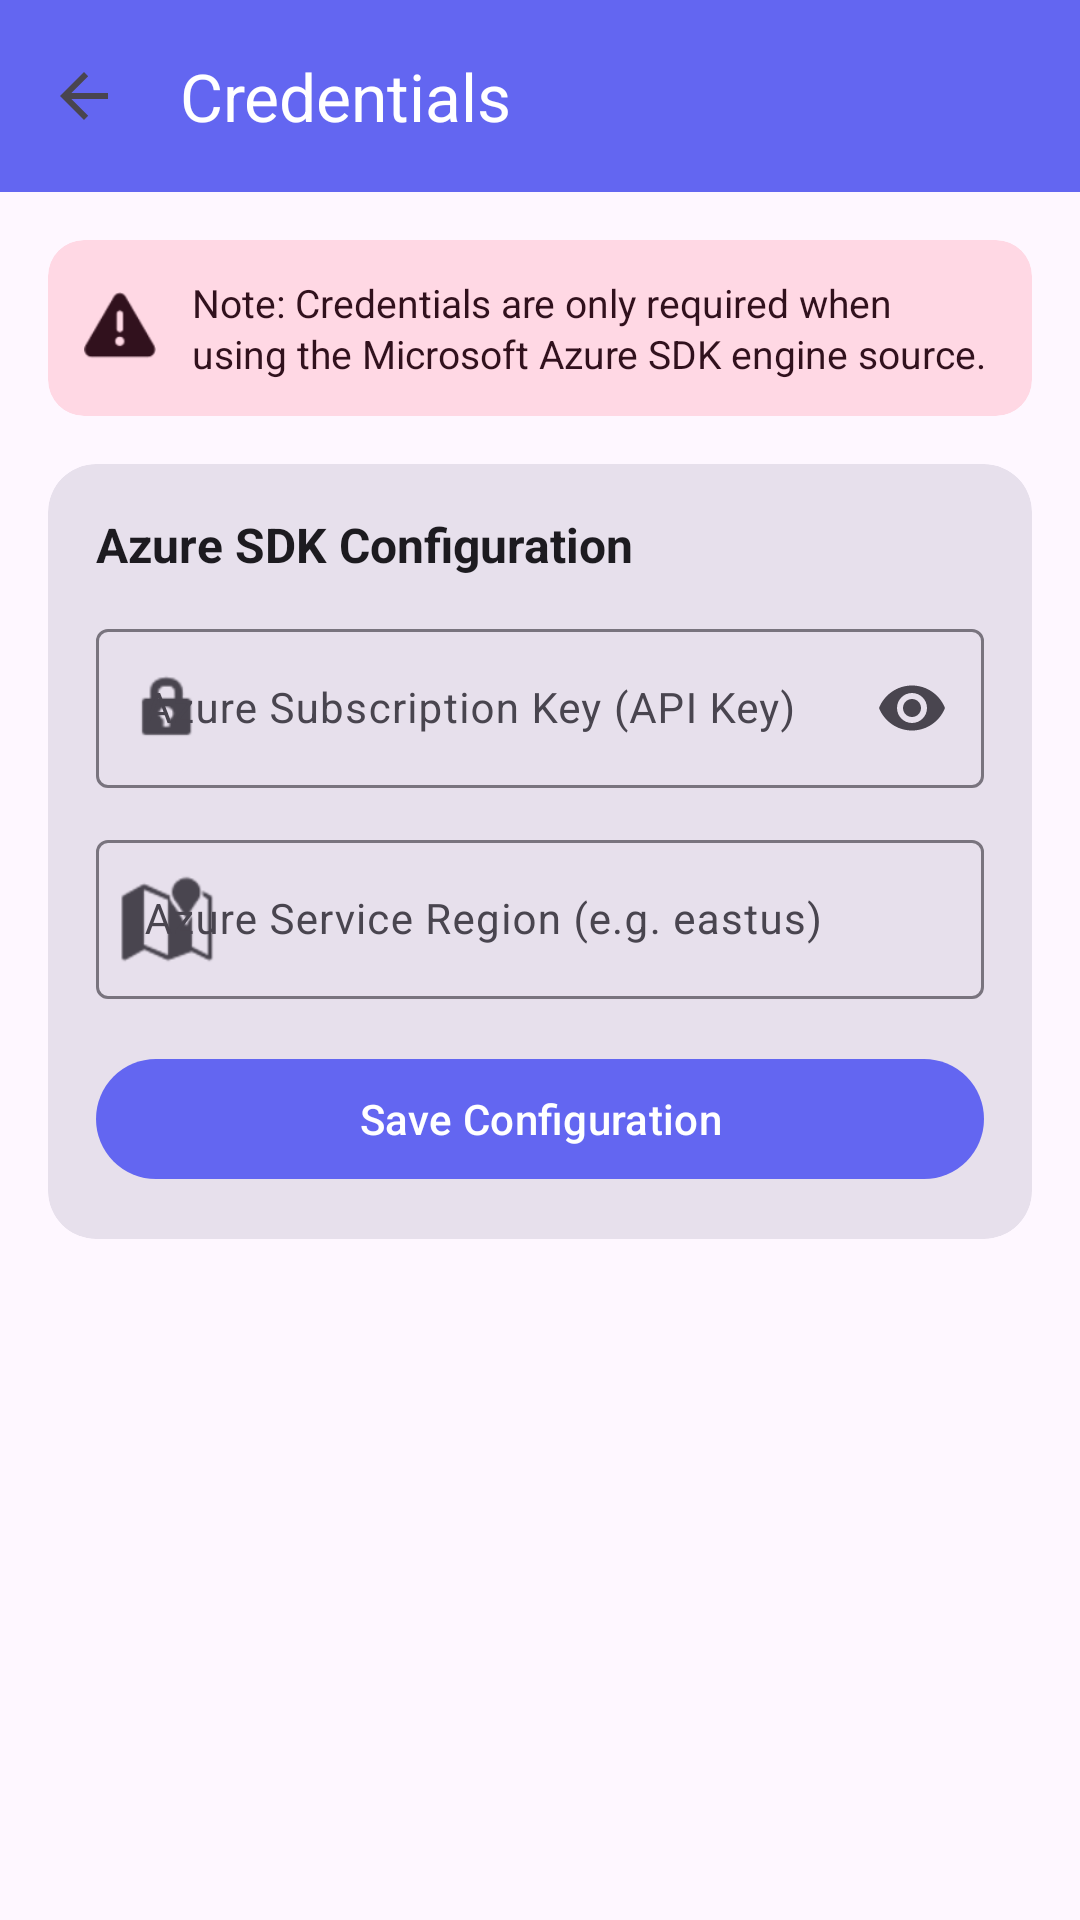

Point at icon controls on the screen. Image size 1080w x 1920h, points as point (x, y).
Warning Icon: point (120, 325)
